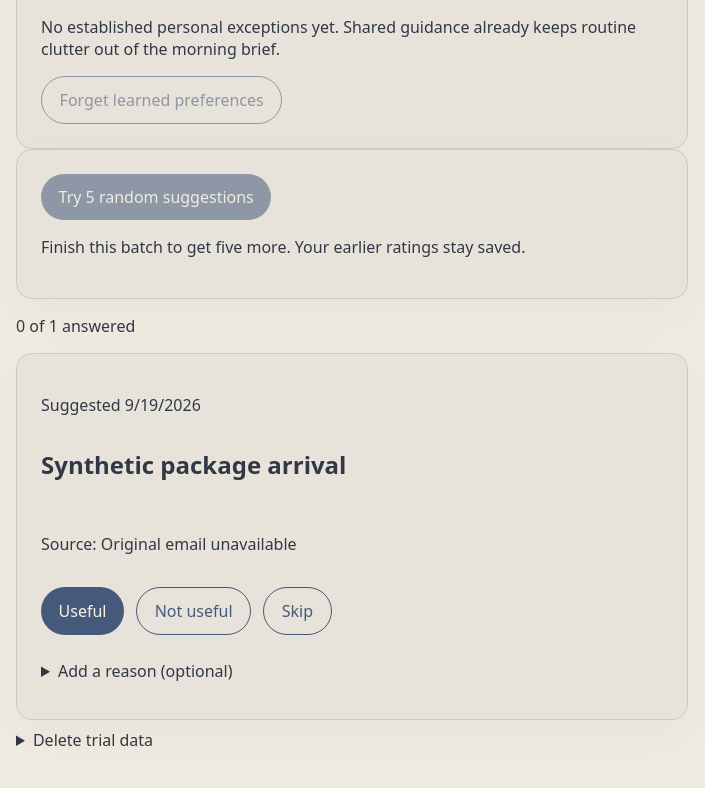
Scenario: saves a one-tap vote without requiring a reason and supports changing it
This screenshot has width=705, height=788.
(page scrolled)
Expected: the heading "Synthetic package arrival" is shown, [41,448,346,481]
What coordinates should you click on to do the following:
click the button "Not useful"
I would click on:
 (194, 611)
Its box is [136,587,251,635].
(page scrolled)
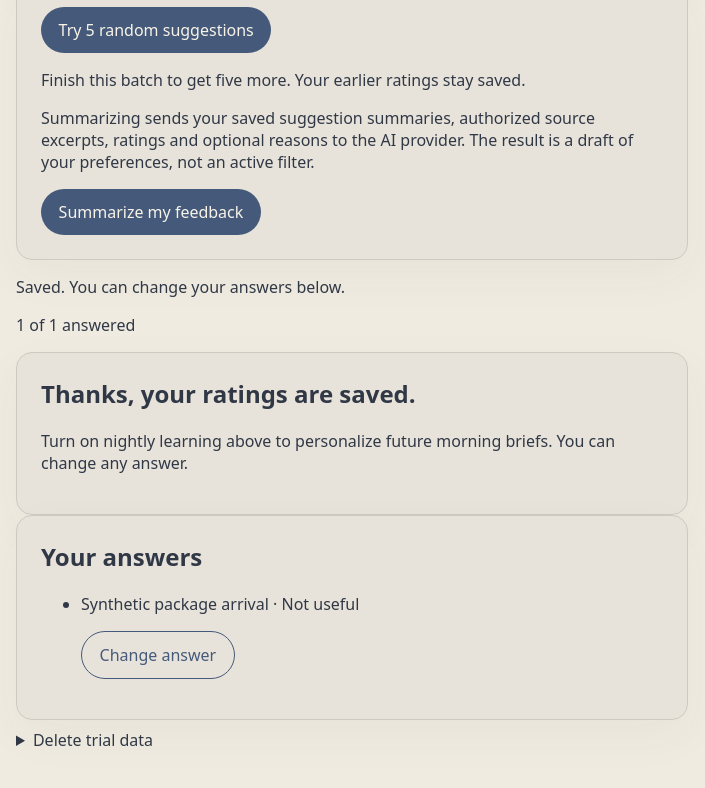
Result: the heading "Thanks, your ratings are saved." is shown at [41,377,416,410]
What coordinates should you click on to do the following:
click the button "Change answer"
I would click on:
 (158, 655)
Its box is [81,631,235,679].
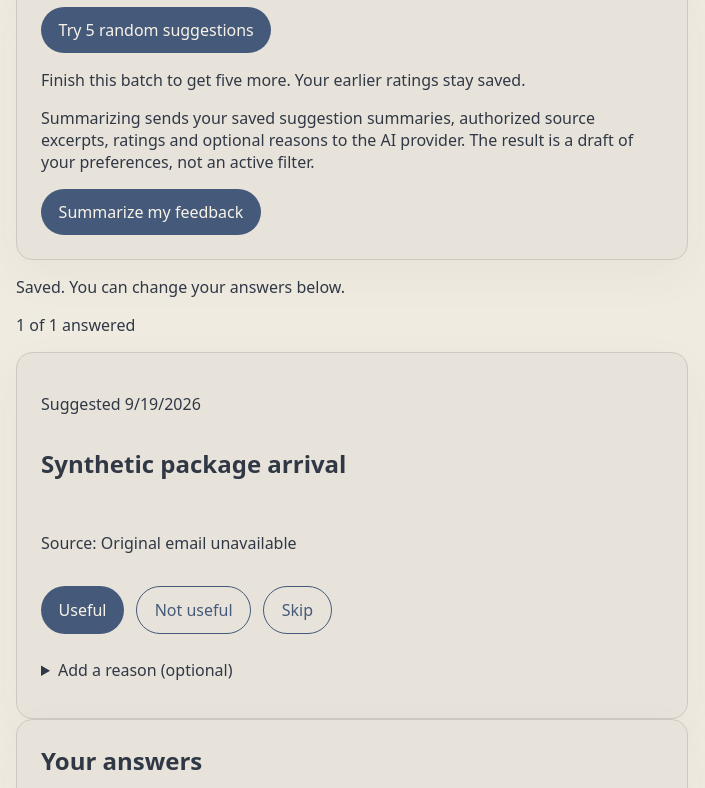
Result: the button "Useful" is shown at [41,586,124,634]
